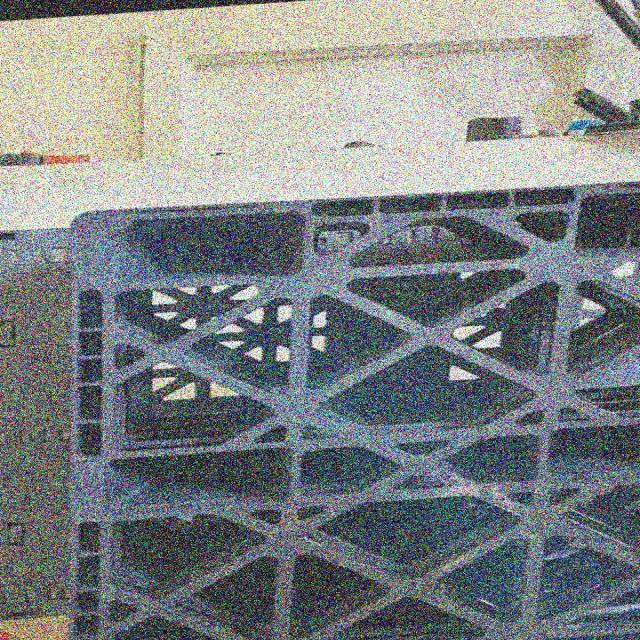non-igps: (52, 169, 640, 640)
